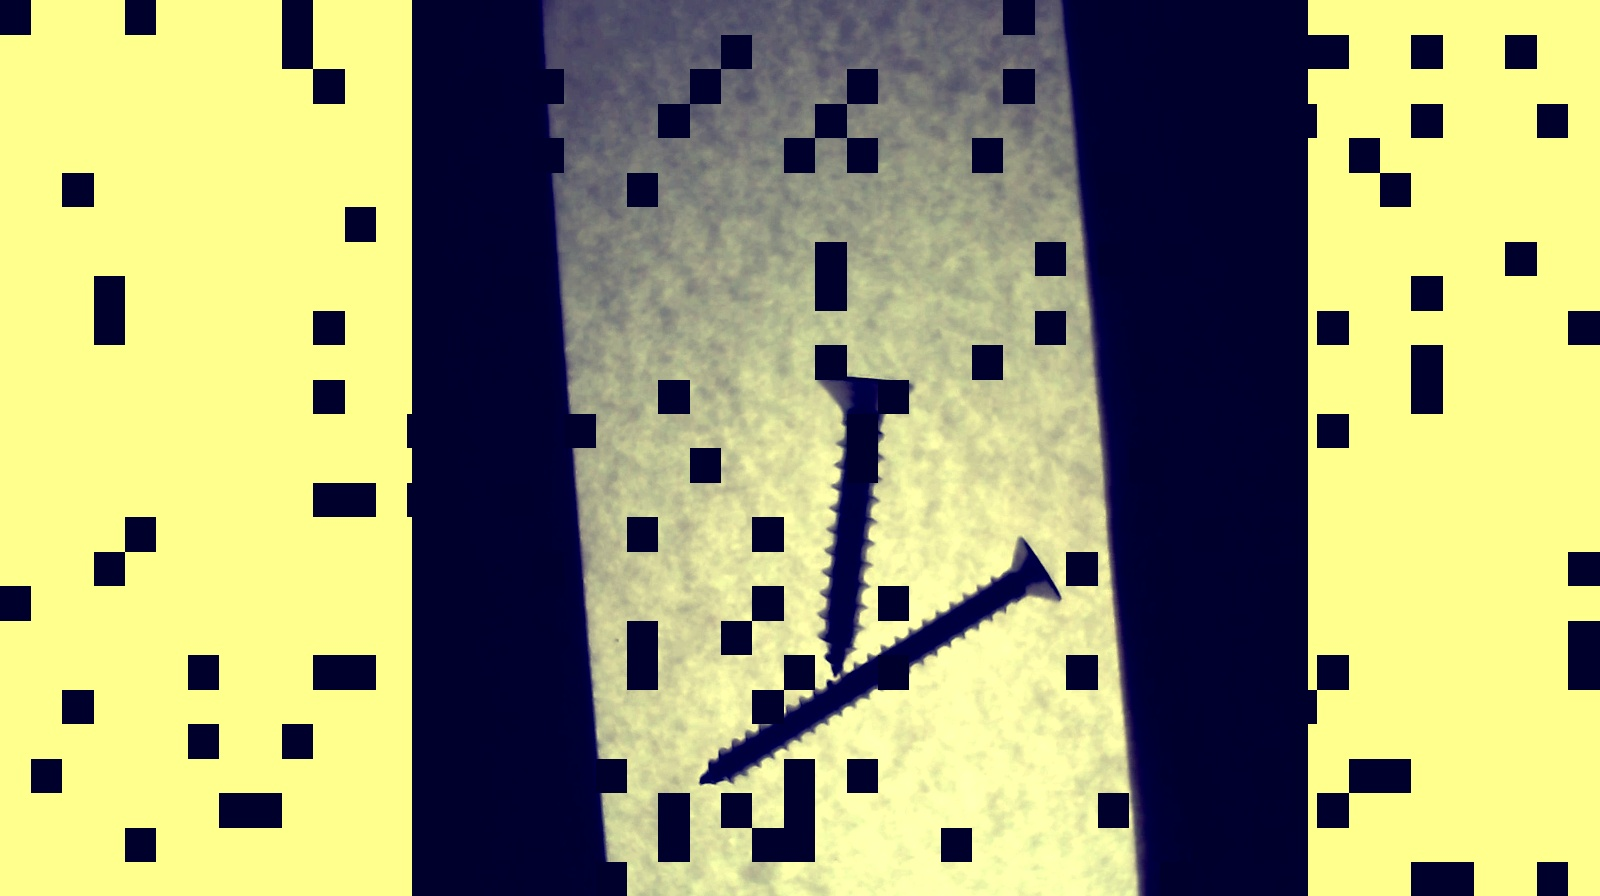S001: (805, 363, 915, 672)
S002: (691, 531, 1063, 794)
